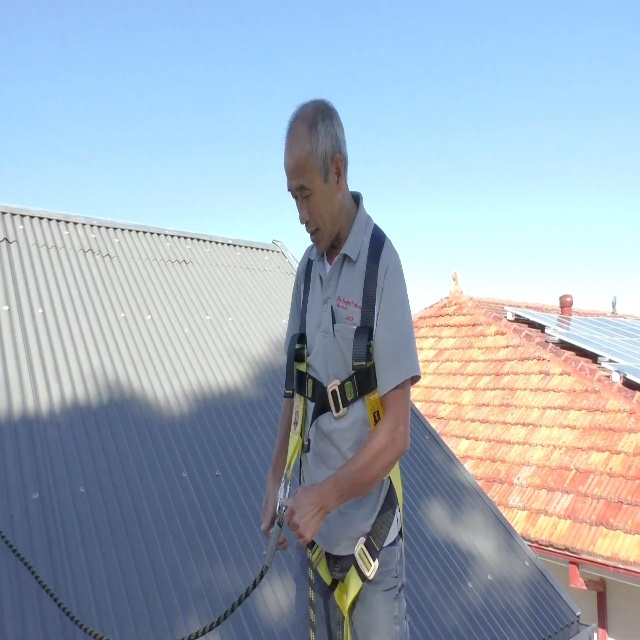Arnes_seguridad: (281, 218, 405, 640)
